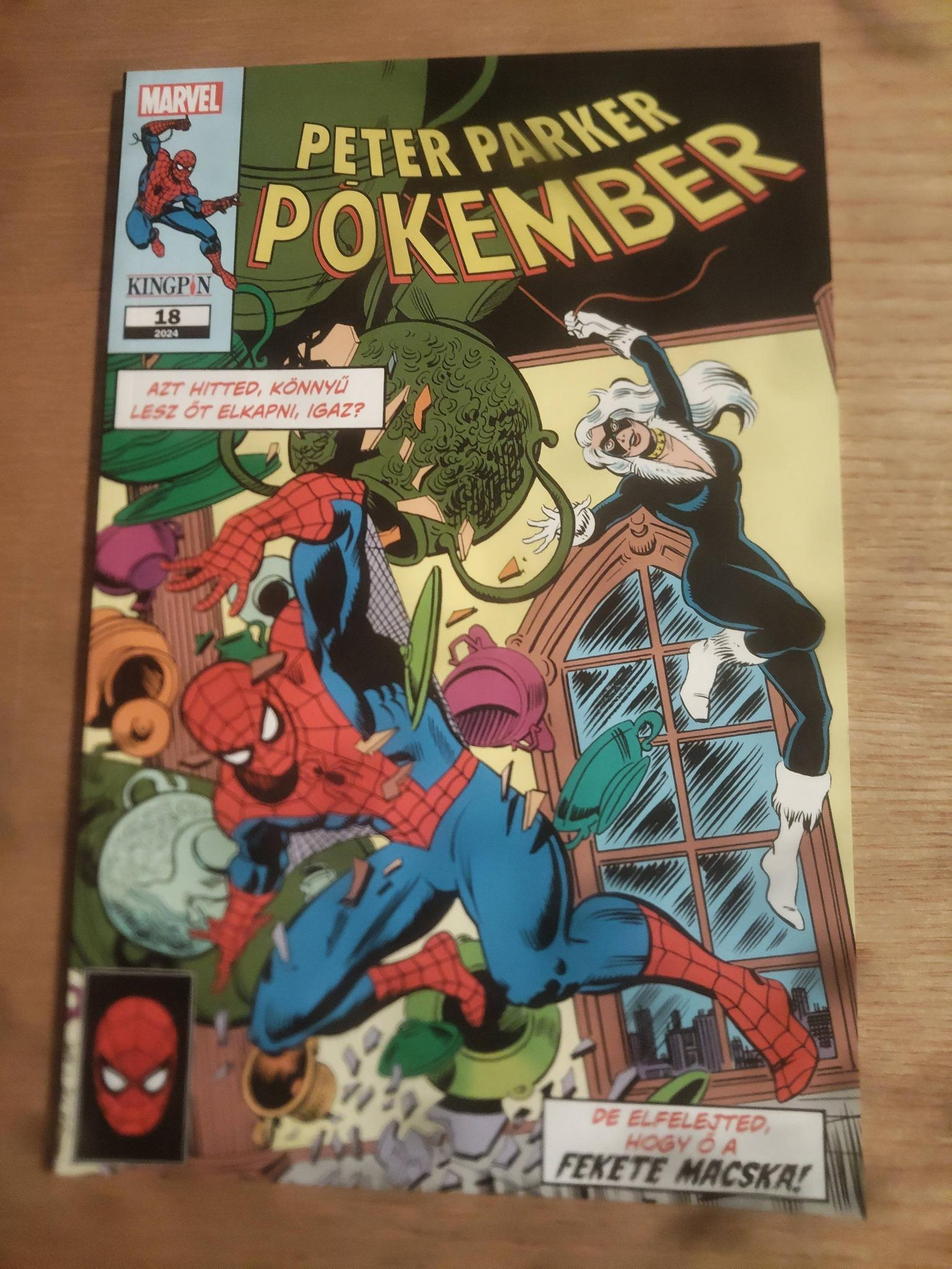comic: (56, 9, 922, 1214)
